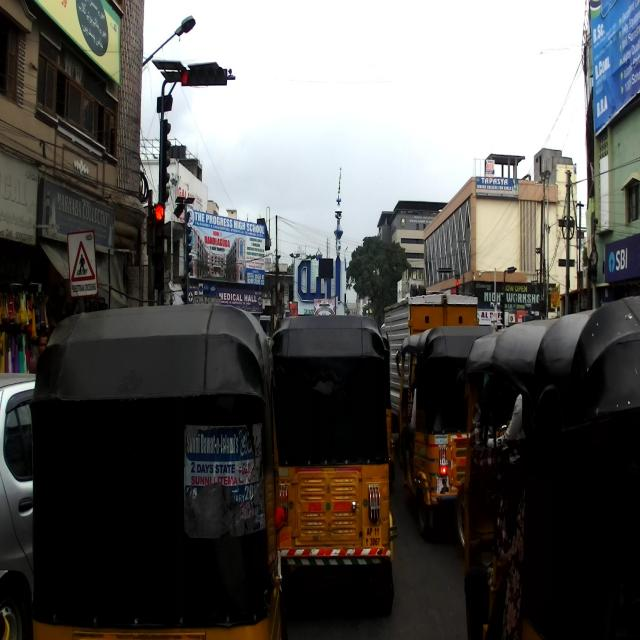autorickshaw: (28, 301, 286, 639), (455, 291, 639, 639), (265, 314, 397, 616), (394, 320, 495, 541)
